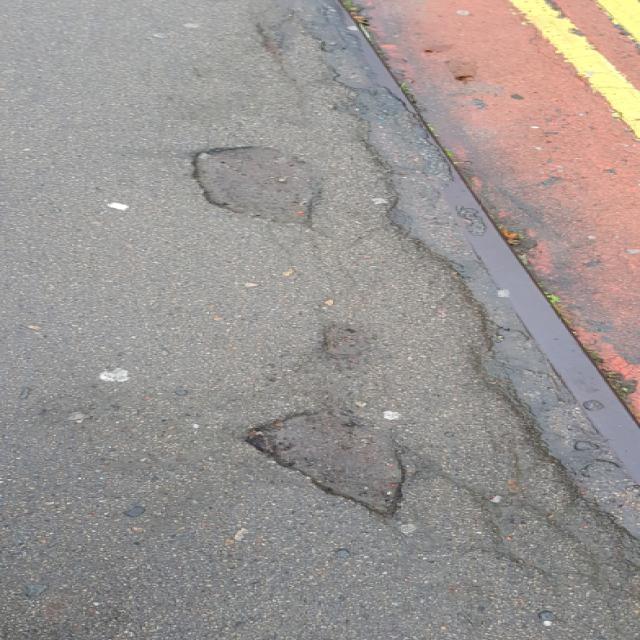Pothole: (238, 407, 419, 517), (186, 144, 323, 228)
